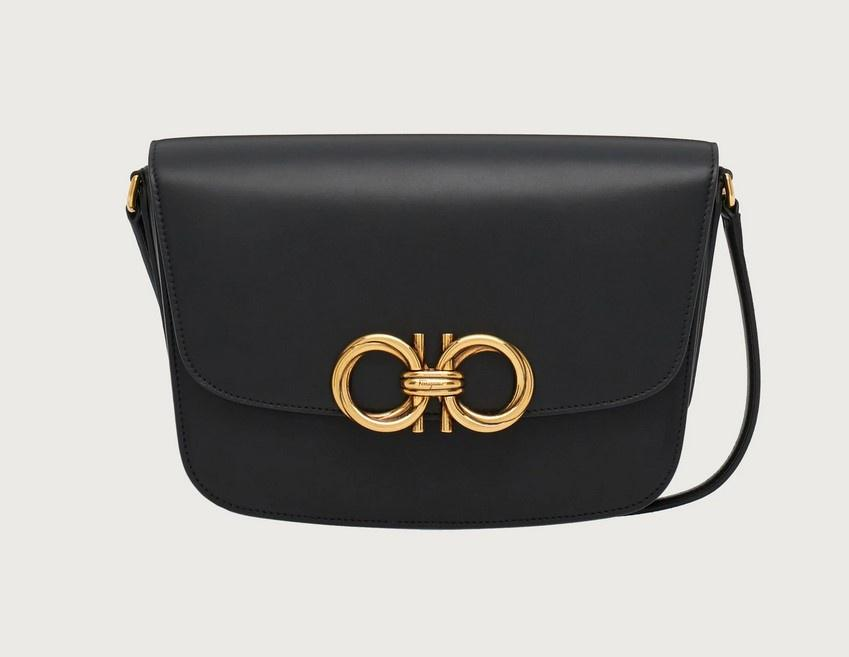FERRAGAMO: (313, 309, 546, 449)
